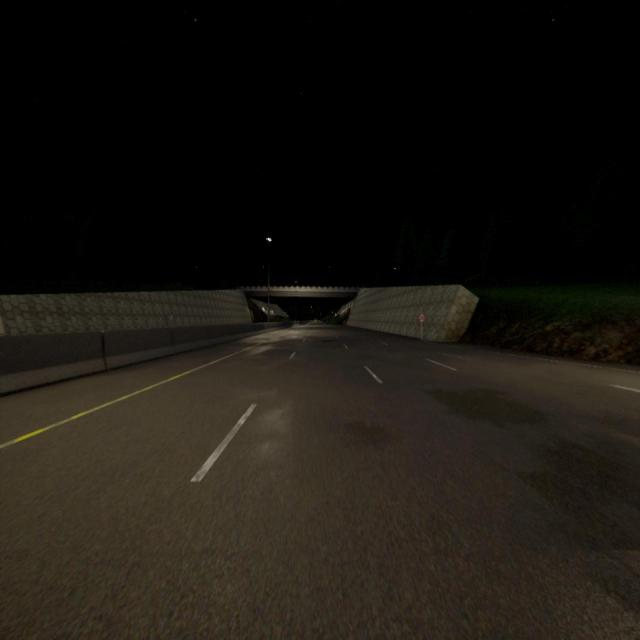Traffic_Signs: (418, 313, 426, 323)
